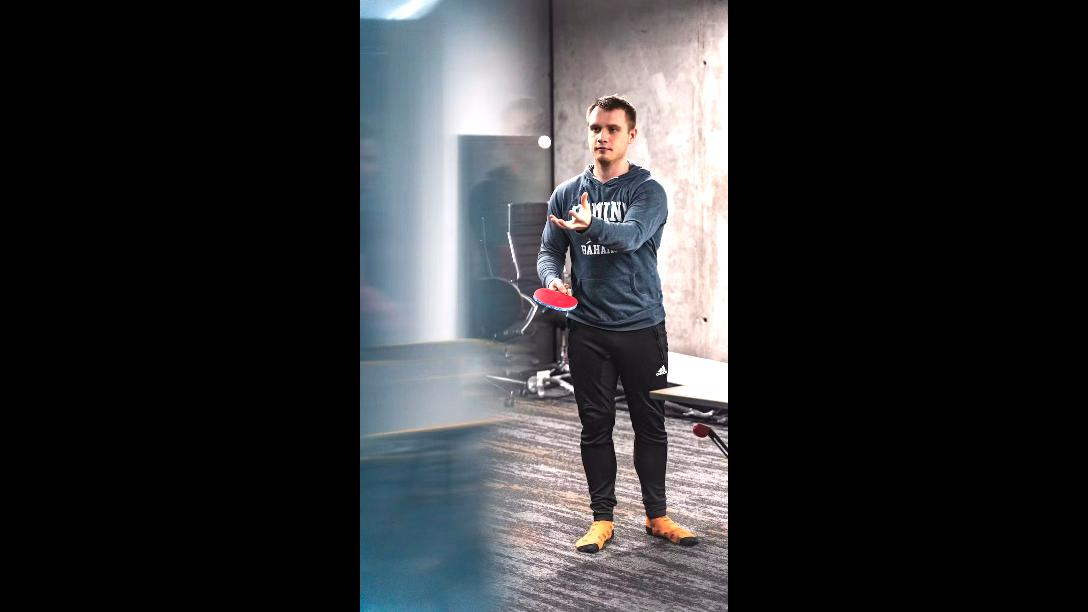Table-Tennis-Ball: (539, 136, 551, 148)
